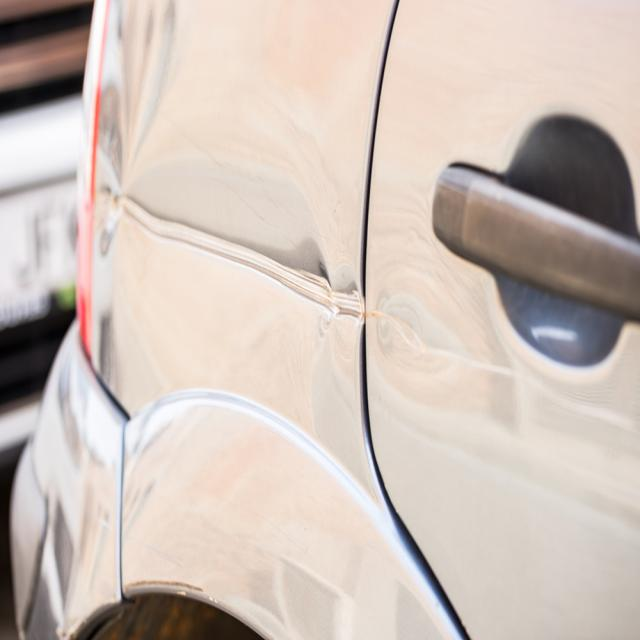dent: (122, 164, 362, 431), (376, 293, 464, 378)
